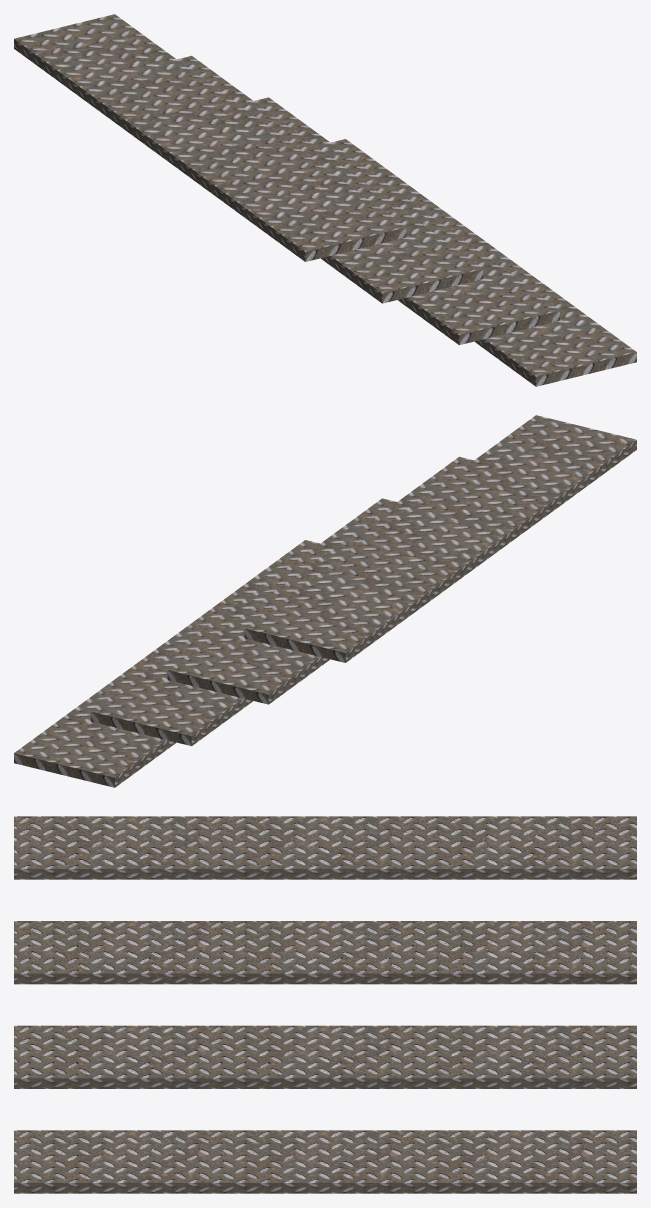
File: stairs04_lod.fbx
3 renders of one model, top to bottom at view 1: azimuth 30°, elevation 25°; view 2: azimuth 150°, elevation 25°; view 3: azimuth 270°, elevation 25°, orthographic. The views are drawn at different scales.
Visible parts, largest first — view 1: Mesh Object; view 2: Mesh Object; view 3: Mesh Object.
Part boxes in pixels (box(x1,y1,x2,y2)): Mesh Object: box(14, 14, 636, 386); Mesh Object: box(14, 415, 636, 787); Mesh Object: box(14, 816, 636, 1193).
Size of the model in its own units: 1.14 by 0.6277 by 1.73.
